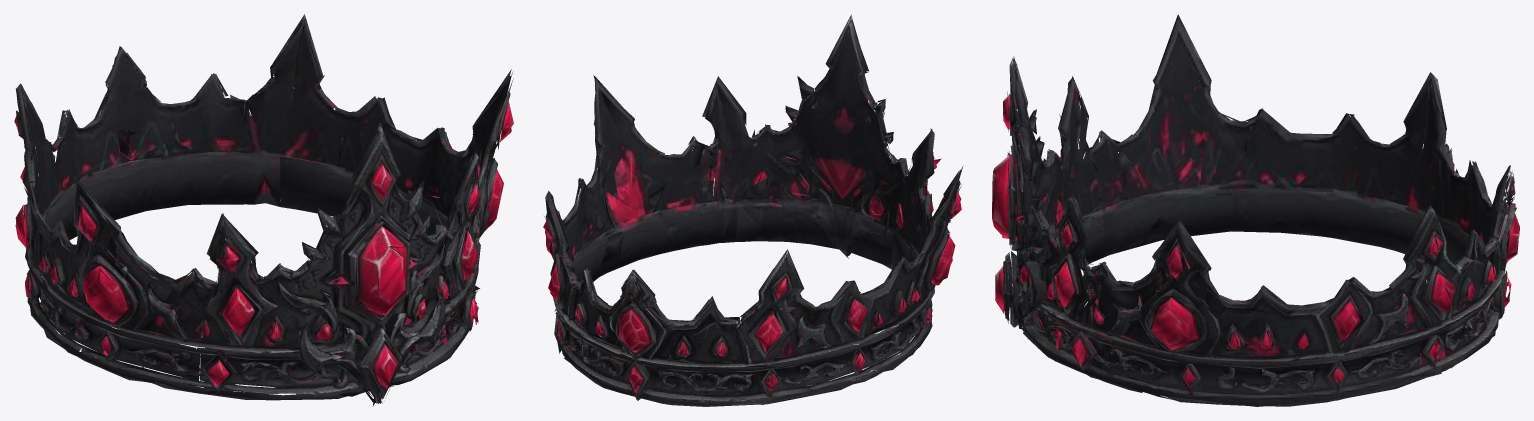
The model's file is coroa_gm.glb.
3 views of the same model, side by side, from view 1: azimuth 30°, elevation 25°; view 2: azimuth 150°, elevation 25°; view 3: azimuth 270°, elevation 25° (orthographic). The views are drawn at different scales.
Visible parts, largest first — view 1: Mesh_0; view 2: Mesh_0; view 3: Mesh_0.
Part boxes in pixels (bbox=[...]): Mesh_0: bbox=[14, 14, 513, 406]; Mesh_0: bbox=[543, 14, 963, 406]; Mesh_0: bbox=[992, 14, 1519, 406].
Size of the model in its own units: 0.8867 by 0.5539 by 0.9603.
Materials: 1 (1 with a texture image).
